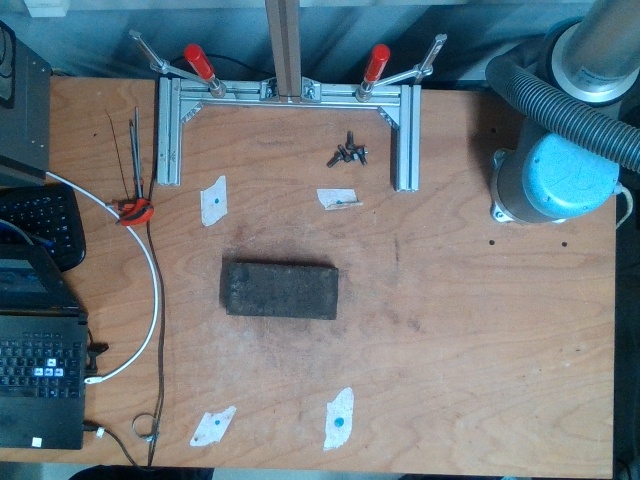brick: (225, 263, 337, 318)
